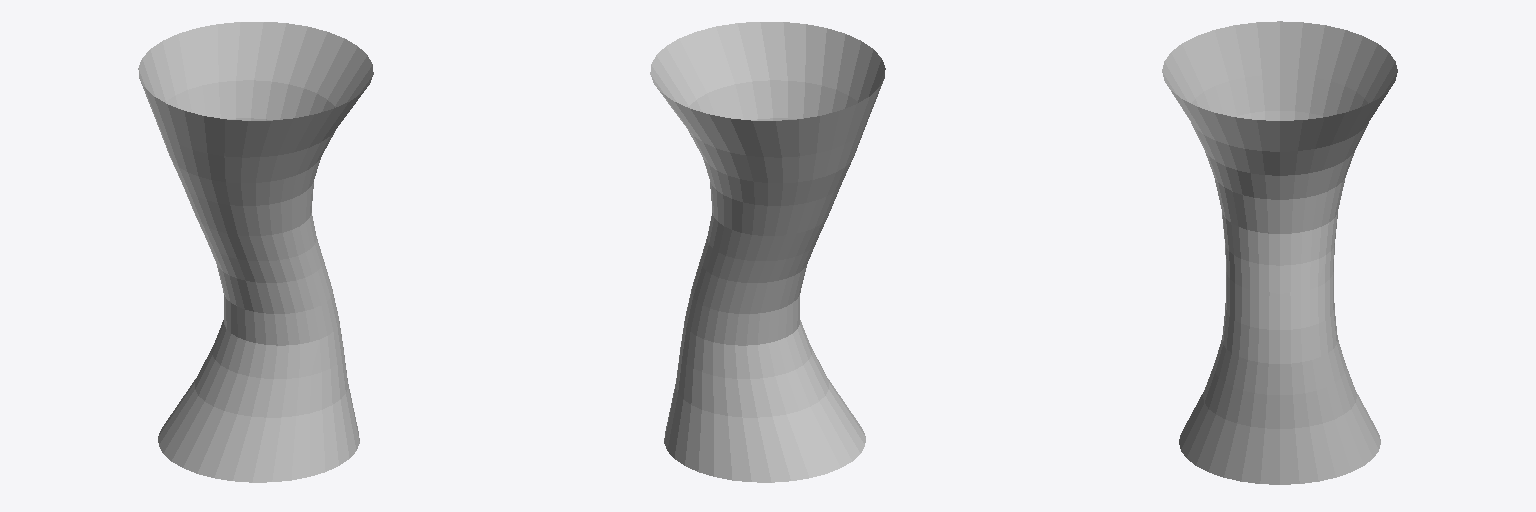
Rendered from Tornado.obj.
3 renders of one model, left to right at view 1: azimuth 30°, elevation 25°; view 2: azimuth 150°, elevation 25°; view 3: azimuth 270°, elevation 25°, orthographic.
Parts seen in each view (by area): view 1: Cylinder; view 2: Cylinder; view 3: Cylinder.
Part boxes in pixels (left/top/right/bottom): Cylinder: left=138, top=22, right=373, bottom=482; Cylinder: left=650, top=22, right=885, bottom=482; Cylinder: left=1162, top=21, right=1397, bottom=484.
Size of the model in its own units: 20.82 by 35.99 by 20.82.